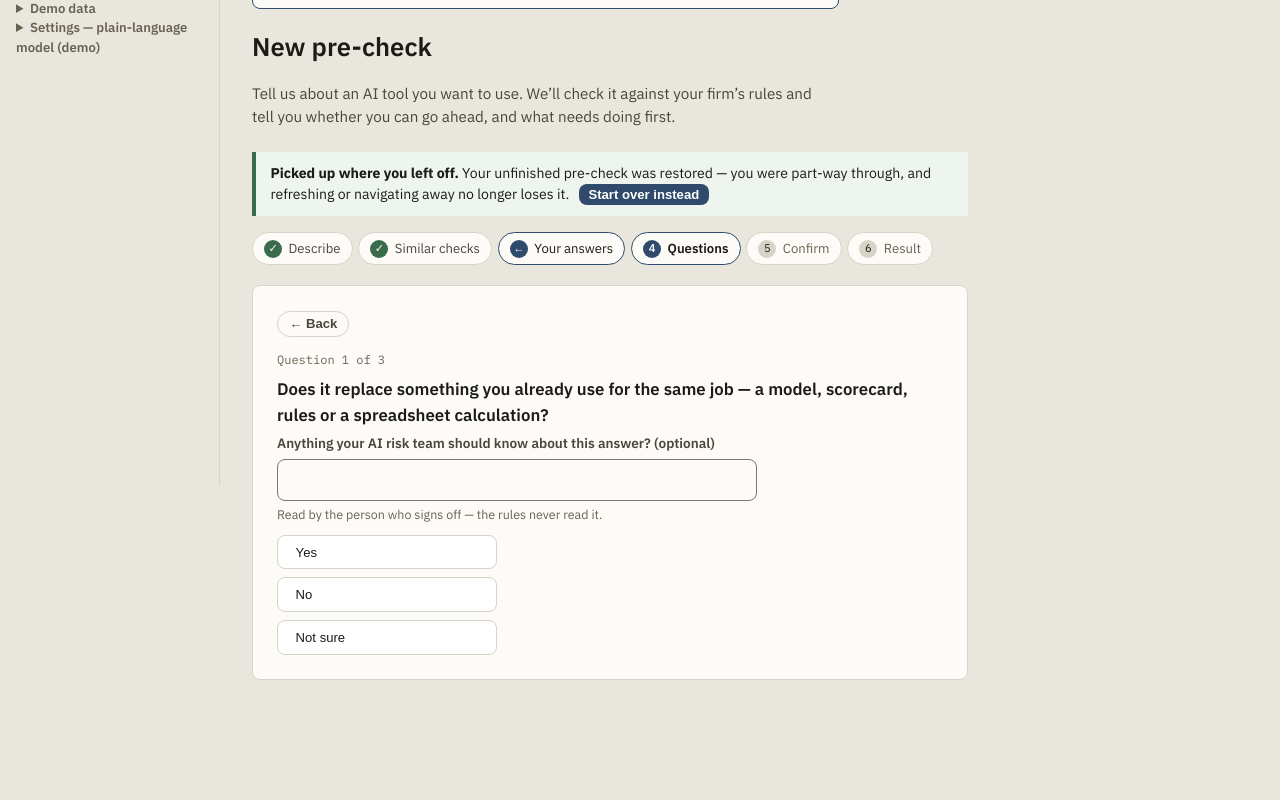
Test: C-3: Undo disappears once its one snapshot is used › TC-CR6-C3: Undo is offered after an answer and gone after it is pressed — even though the PREVIOUS answer is still shown as "Recorded"
This screenshot has width=1280, height=800.
(page scrolled)
Expected: the text "Question 1 of 3" is shown, top-left (277, 352), bottom-right (385, 368)
Expected: the button "undo" is not shown
Step 1. Click the button "Yes" → (387, 552), box top-left (277, 535), bottom-right (497, 569)
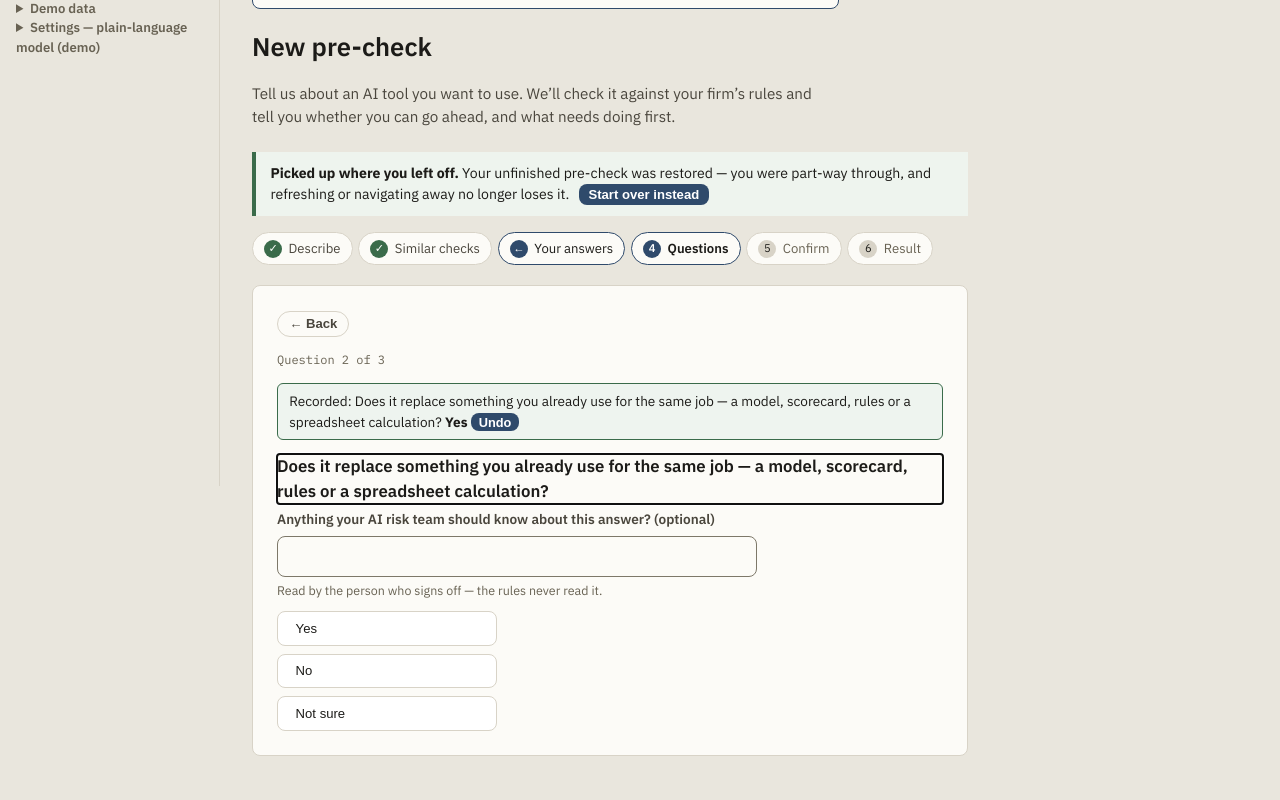
Now the text "Question 2 of 3" is shown, box top-left (277, 352), bottom-right (385, 368)
Now the button "Undo" is shown, box top-left (471, 413), bottom-right (519, 431)
Step 2. Click the button "No" → (387, 671), box top-left (277, 654), bottom-right (497, 688)
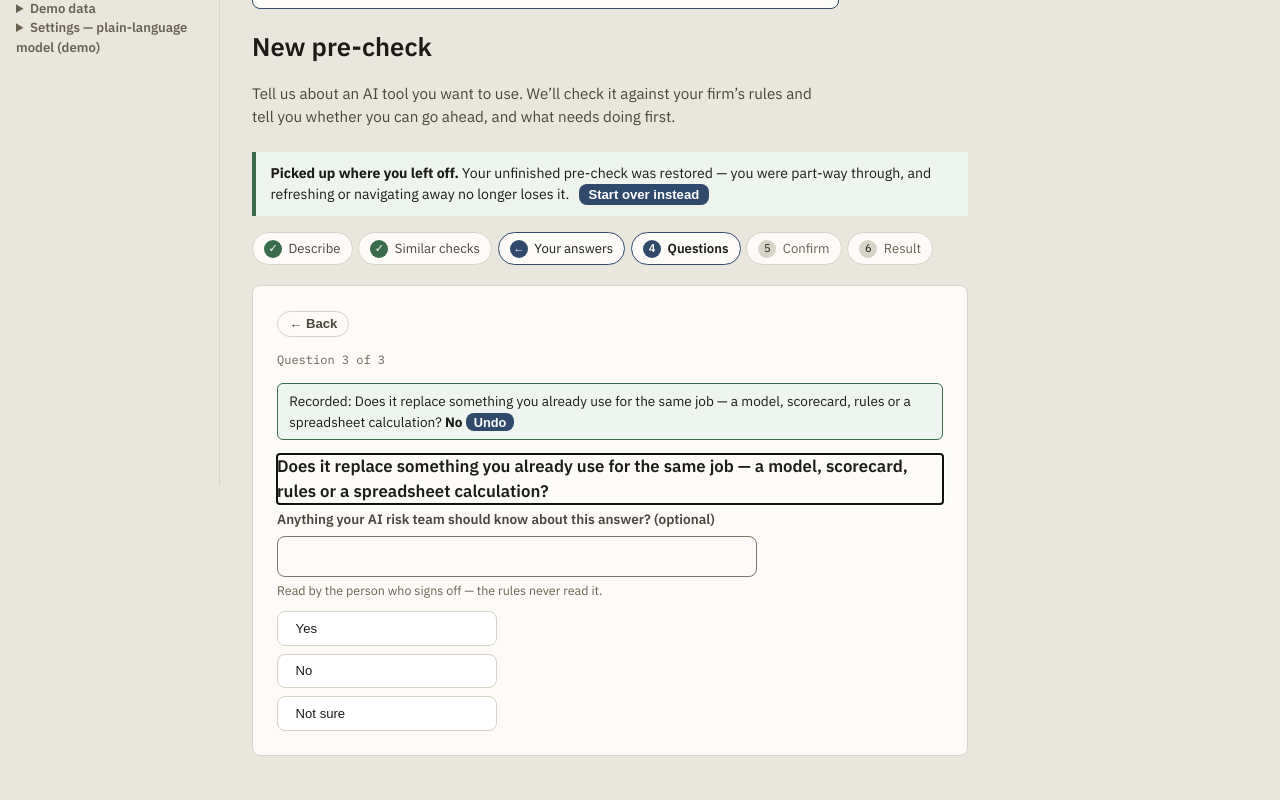
Now the text "Question 3 of 3" is shown, box top-left (277, 352), bottom-right (385, 368)
Step 3. Click the button "Undo" → (490, 422), box top-left (466, 413), bottom-right (514, 431)
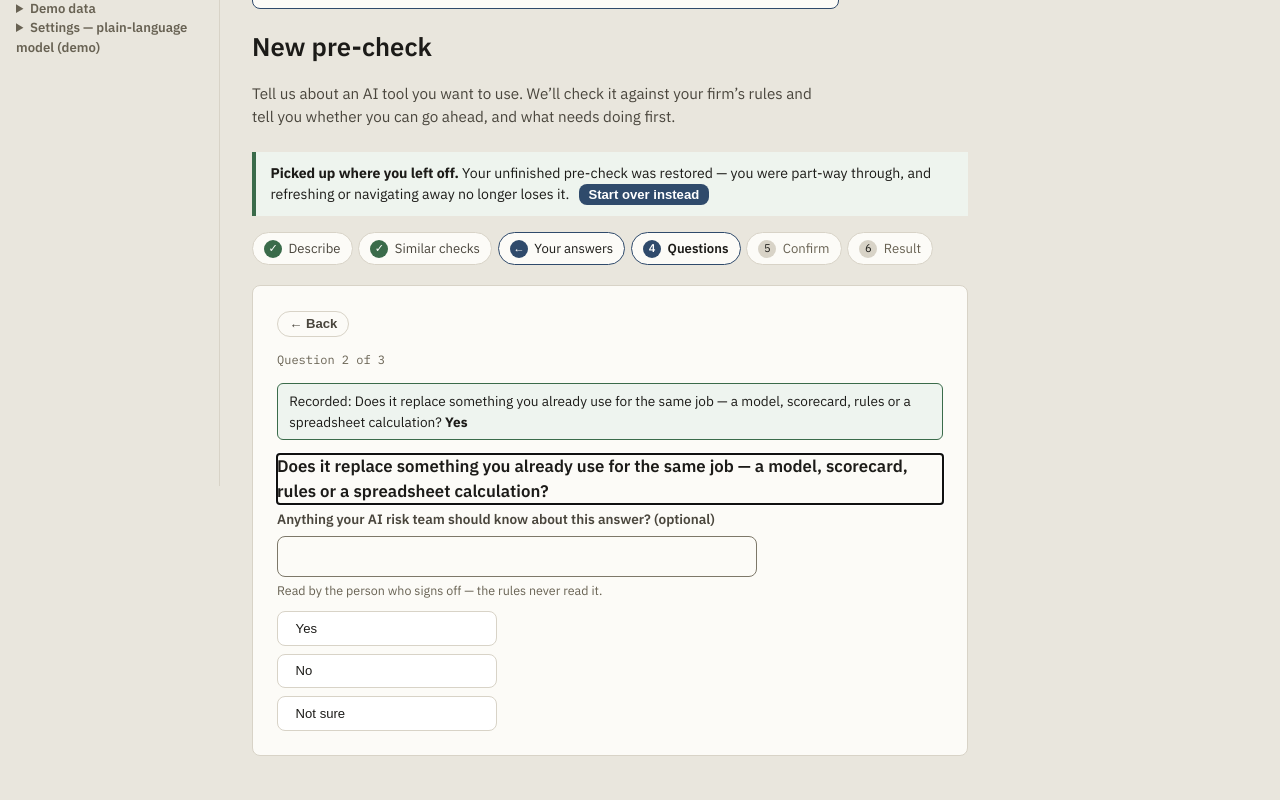
Now the text "Recorded:" is shown, box top-left (289, 392), bottom-right (355, 410)
Now the text "Question 2 of 3" is shown, box top-left (277, 352), bottom-right (385, 368)
Now the button "Undo" is gone
